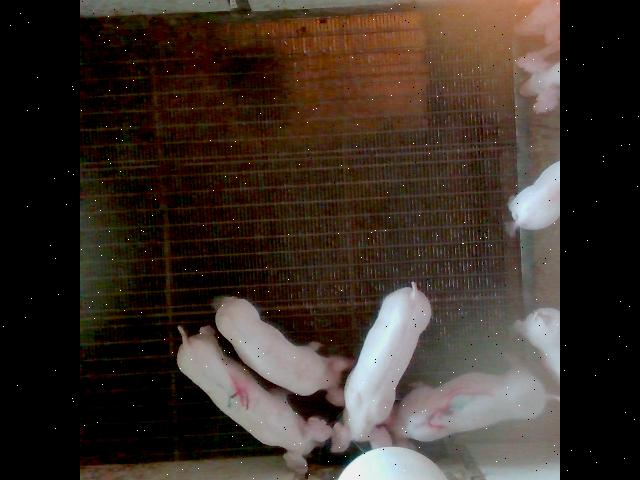pig-3: (385, 368, 558, 440)
pig-4: (178, 326, 333, 471)
